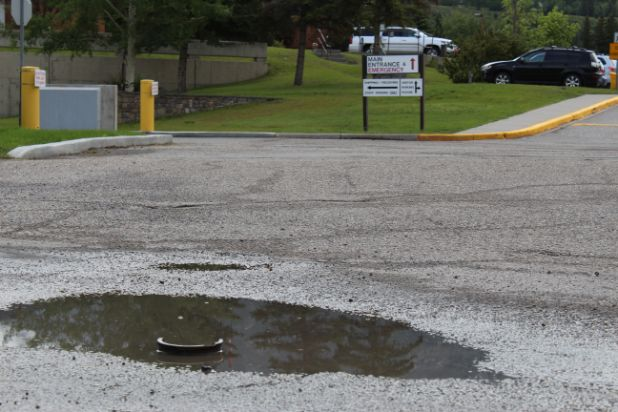pothole: (1, 287, 515, 384)
